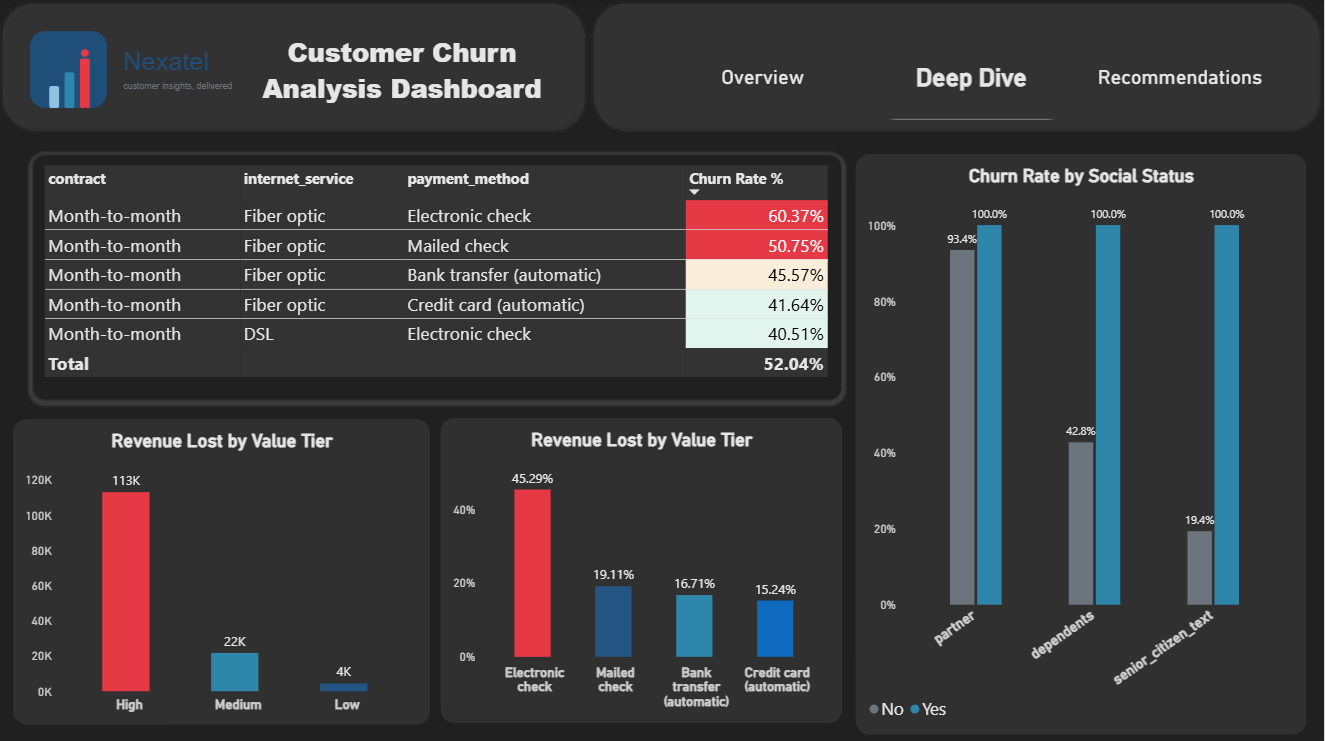

The page's visual inventory and layout, read from the dashboard file:
{"tool":"powerbi","page":{"name":"Deep Dive","canvas":[1920,1080],"ordinal":1},"visuals":[{"type":"shape","box":[0,0,856,197.3],"z":0},{"type":"image","box":[0,0,540.4,175.2],"z":1000},{"type":"textbox","box":[348.6,51.6,474,145.7],"z":2000},{"type":"shape","box":[856,0,1064.1,197.3],"z":3000},{"type":"pageNavigator","box":[960.9,51.6,900.1,125.4],"z":4000},{"type":"tableEx","fields":{"Values":["vw_telco_churn_clean.contract","vw_telco_churn_clean.internet_service","vw_telco_churn_clean.payment_method","mesures.Churn Rate %"]},"box":[50.7,225.5,1172.5,357],"z":6000},{"type":"clusteredColumnChart","title":"Revenue Lost by Value Tier","fields":{"Y":["mesures.Monthly Revenue Lost"],"Category":["vw_telco_churn_clean.monthly_value_tier"]},"box":[24.4,610.7,603.2,441.6],"z":7000},{"type":"clusteredColumnChart","title":"Revenue Lost by Value Tier","fields":{"Y":["mesures.Churn Rate %"],"Category":["vw_telco_churn_clean.payment_method"]},"box":[642.6,608.8,580.6,441.6],"z":8000},{"type":"clusteredColumnChart","title":"Churn Rate by Social Status","fields":{"Y":["demographics_long.Demo Churn Rate %"],"Category":["demographics_long.Attribute"],"Series":["demographics_long.Value"]},"box":[1243.9,225.5,652,839.9],"z":9000}]}

Visuals, with their boxes in screenshot pixels (x1, y1, x2, y2), scaled from the page's 1920x1080 canvas onto the 1325x741 screenshot:
shape: bbox(0, 0, 591, 135)
image: bbox(0, 0, 373, 120)
textbox: bbox(241, 35, 568, 135)
shape: bbox(591, 0, 1324, 135)
pageNavigator: bbox(663, 35, 1284, 121)
tableEx - vw_telco_churn_clean.contract x vw_telco_churn_clean.internet_service: bbox(35, 155, 844, 400)
"Revenue Lost by Value Tier" clusteredColumnChart: bbox(17, 419, 433, 722)
"Revenue Lost by Value Tier" clusteredColumnChart: bbox(443, 418, 844, 721)
"Churn Rate by Social Status" clusteredColumnChart: bbox(858, 155, 1308, 731)
